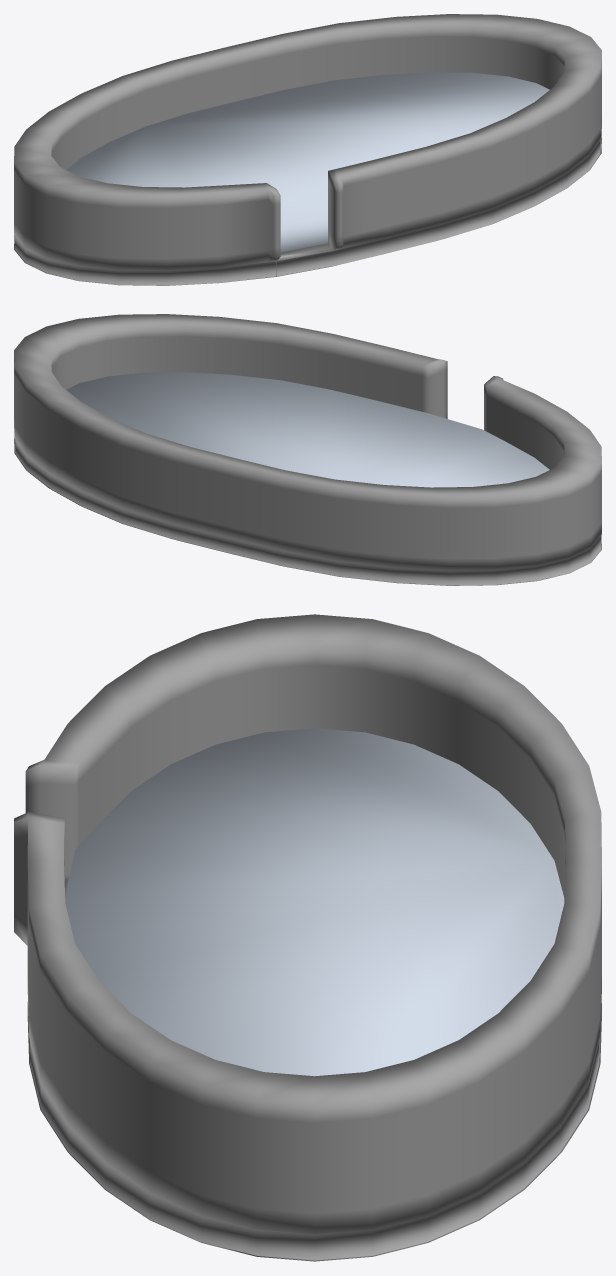
File: Ice Link.fbx
3 renders of one model, top to bottom at view 1: azimuth 30°, elevation 25°; view 2: azimuth 150°, elevation 25°; view 3: azimuth 270°, elevation 25°, orthographic. The views are drawn at different scales.
Parts seen in each view (by area): view 1: Circle, Circle.001; view 2: Circle, Circle.001; view 3: Circle, Circle.001.
Part boxes in pixels (x1,y1,x2,y2): Circle: (14, 14, 601, 285); Circle.001: (66, 72, 549, 252); Circle: (14, 314, 601, 585); Circle.001: (66, 372, 549, 487); Circle: (14, 614, 601, 1261); Circle.001: (65, 728, 564, 1076).
Size of the model in its own units: 75.94 by 11.24 by 38.42.
